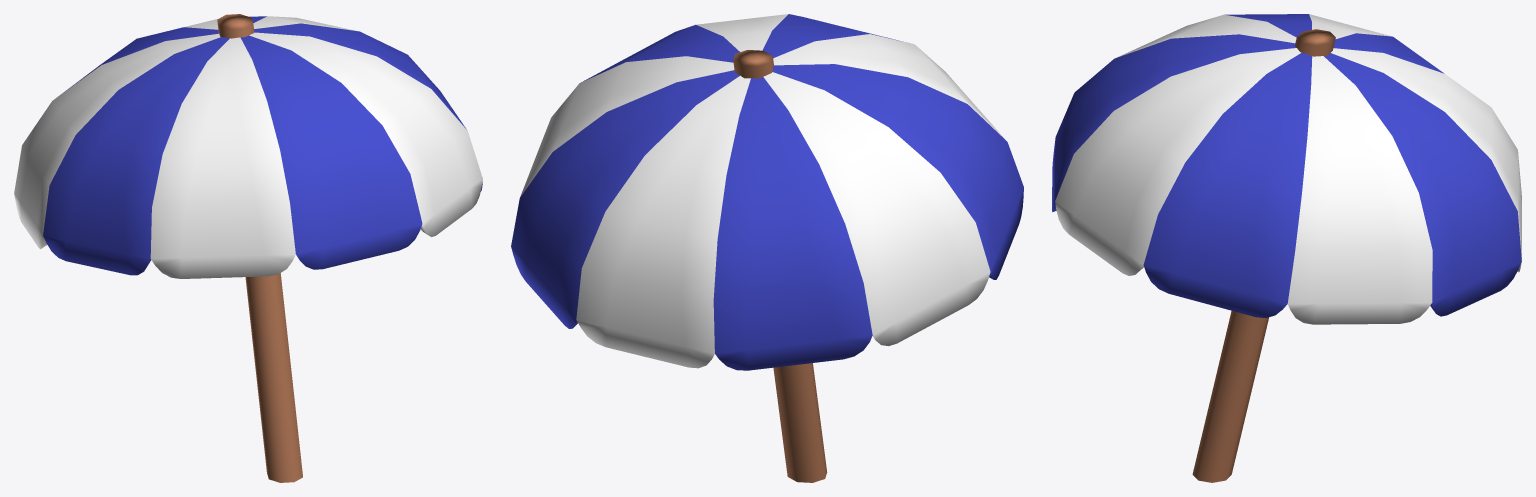
File: umbrella_blue.fbx
The picture shows the model from 3 angles, left to right: view 1: azimuth 30°, elevation 25°; view 2: azimuth 150°, elevation 25°; view 3: azimuth 270°, elevation 25°; orthographic projection. The views are drawn at different scales.
Visible parts, largest first — view 1: umbrella_blue; view 2: umbrella_blue; view 3: umbrella_blue.
Boxes of the visible parts, x1,y1,x2,y2 form: umbrella_blue: (14, 14, 482, 482); umbrella_blue: (511, 14, 1023, 482); umbrella_blue: (1052, 14, 1521, 482).
Size of the model in its own units: 1.84 by 1.79 by 1.75.
